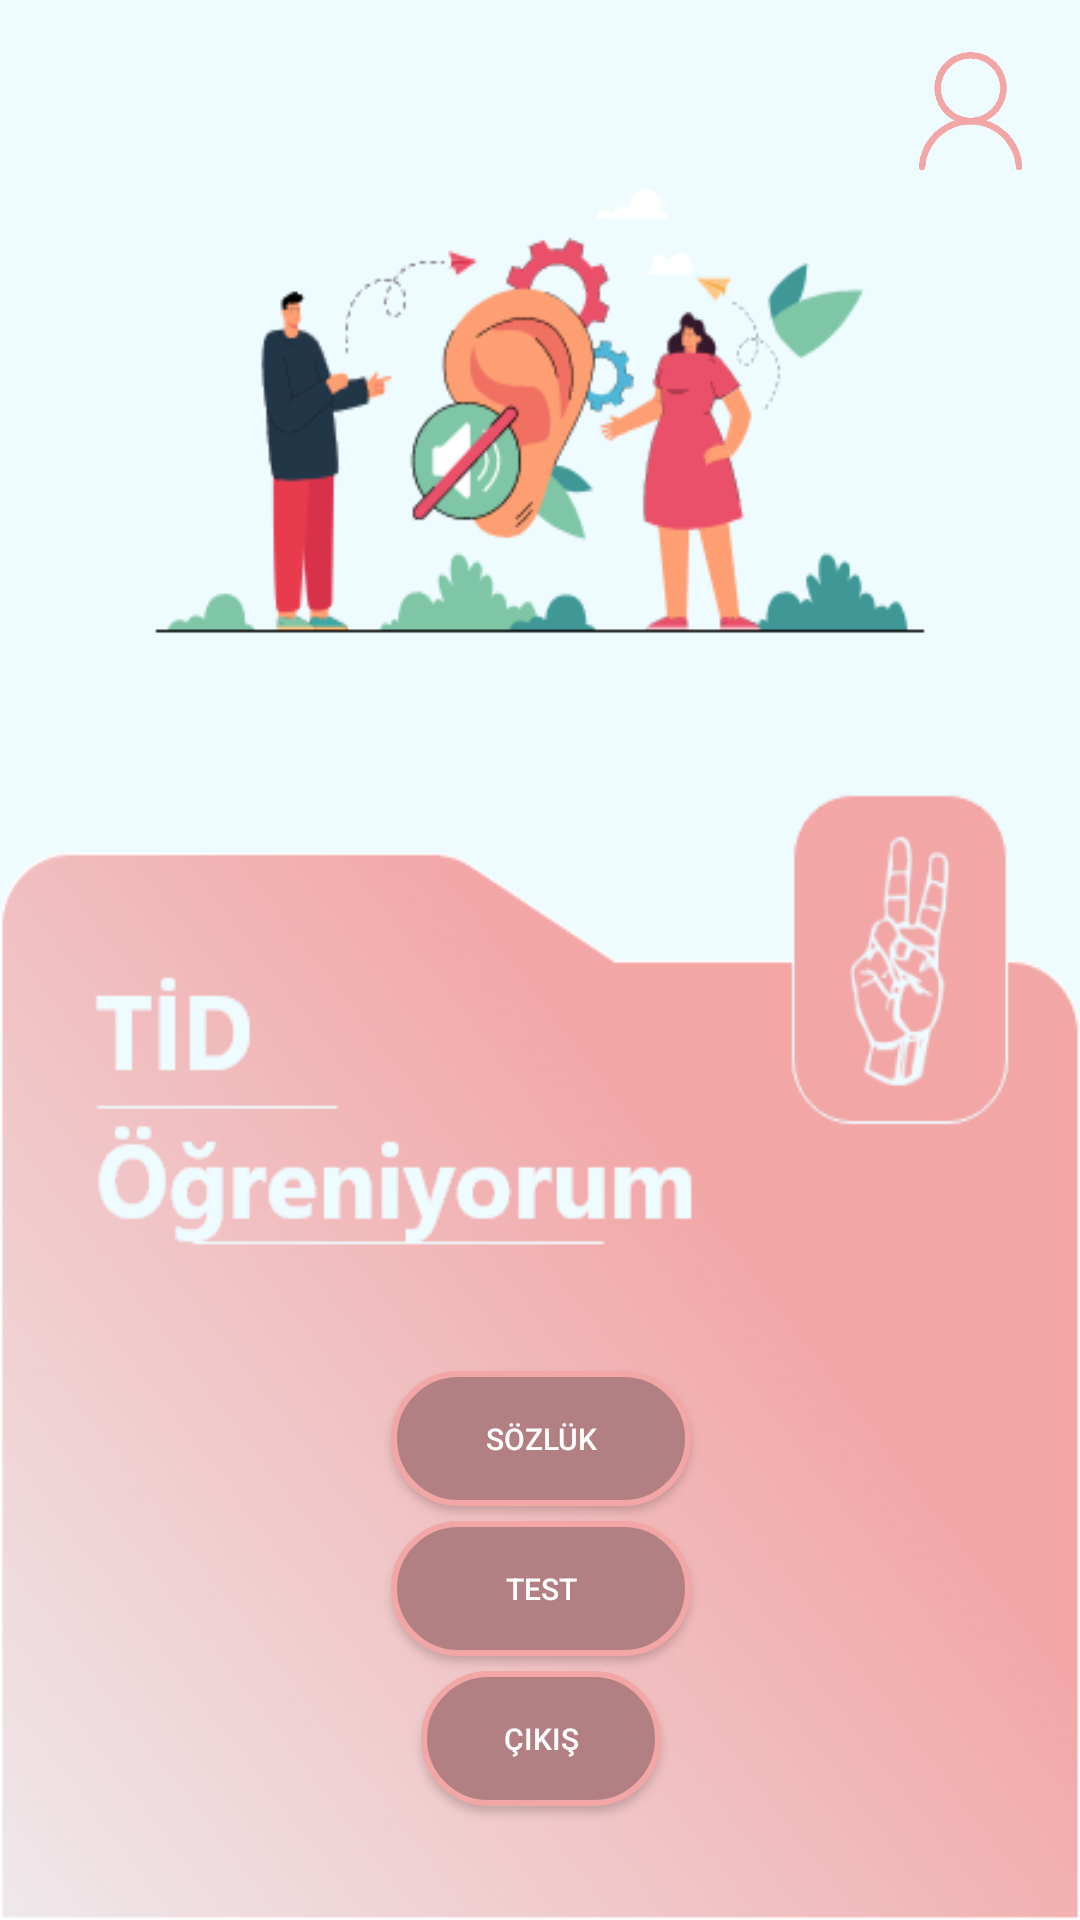

Named icons in this screenshot (1080 × 1920) and their centers, [x,y]:
user images: [970,111]
